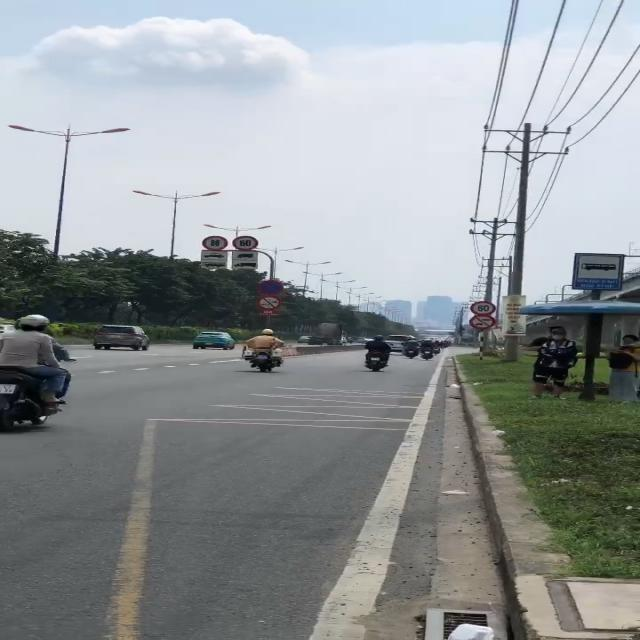Bien bao toc do toi da cho phep: (202, 234, 229, 252), (467, 300, 499, 315), (232, 236, 260, 252)
